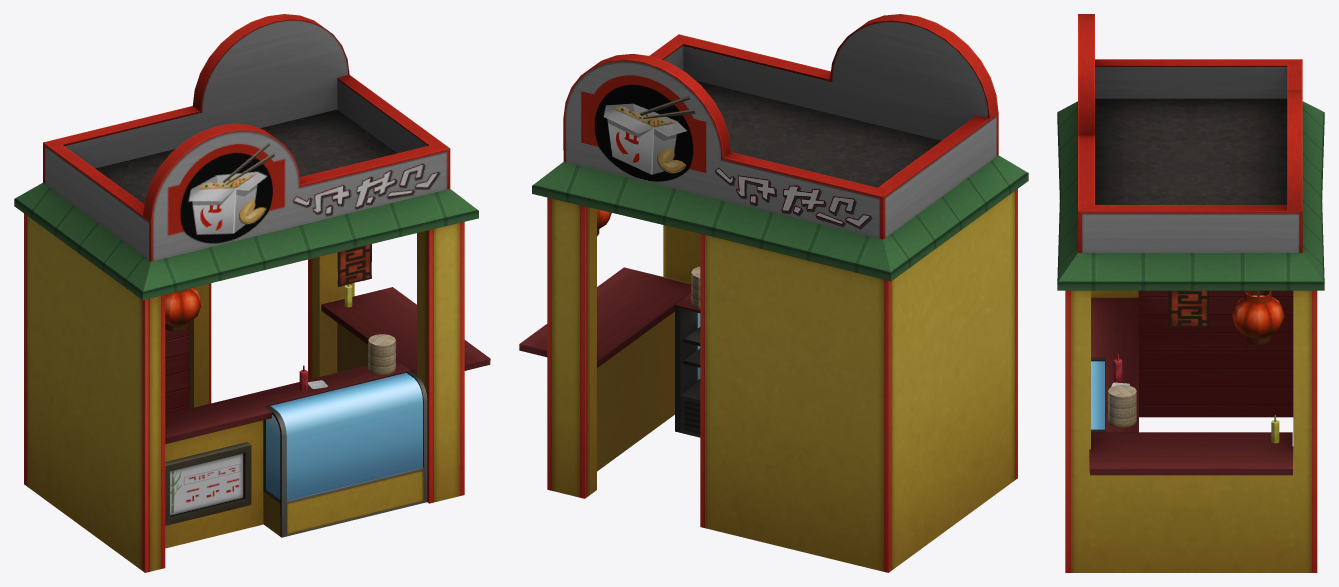
Rendered from ramenfood stall.fbx.
3 renders of one model, left to right at view 1: azimuth 30°, elevation 25°; view 2: azimuth 150°, elevation 25°; view 3: azimuth 270°, elevation 25°, orthographic. The views are drawn at different scales.
Visible parts, largest first — view 1: _gltfNode_6, _gltfNode_8, _gltfNode_2, _gltfNode_0; view 2: _gltfNode_8, _gltfNode_6, _gltfNode_0; view 3: _gltfNode_6, _gltfNode_8, _gltfNode_0, _gltfNode_2.
Part boxes in pixels (box(x1,y1,x2,y2)): _gltfNode_6: box(14, 14, 490, 537); _gltfNode_8: box(24, 213, 464, 572); _gltfNode_2: box(266, 372, 422, 500); _gltfNode_0: box(165, 244, 395, 525); _gltfNode_8: box(547, 189, 1017, 572); _gltfNode_6: box(519, 14, 1028, 437); _gltfNode_0: box(597, 209, 700, 309); _gltfNode_6: box(1057, 14, 1324, 475); _gltfNode_8: box(1065, 290, 1317, 572); _gltfNode_0: box(1108, 290, 1284, 443); _gltfNode_2: box(1091, 361, 1104, 429).
Bounding box in the file's own units: 320 × 350 × 196.
Materials: 5 (5 with a texture image).
